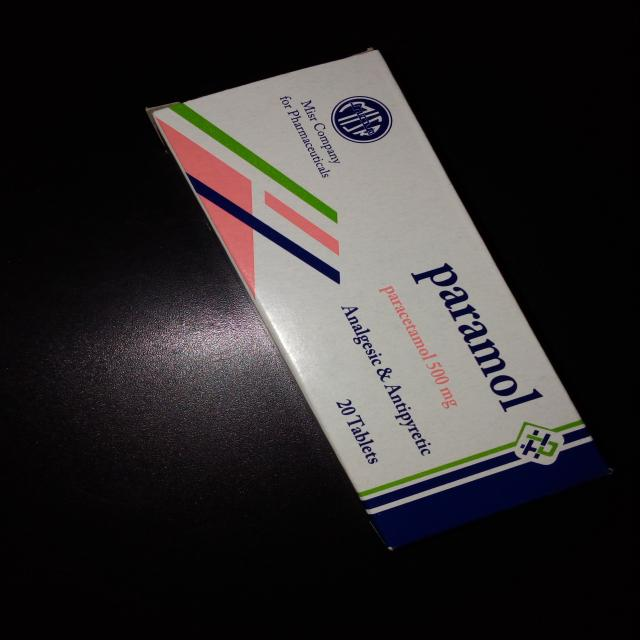Medicine: (137, 44, 622, 556)
